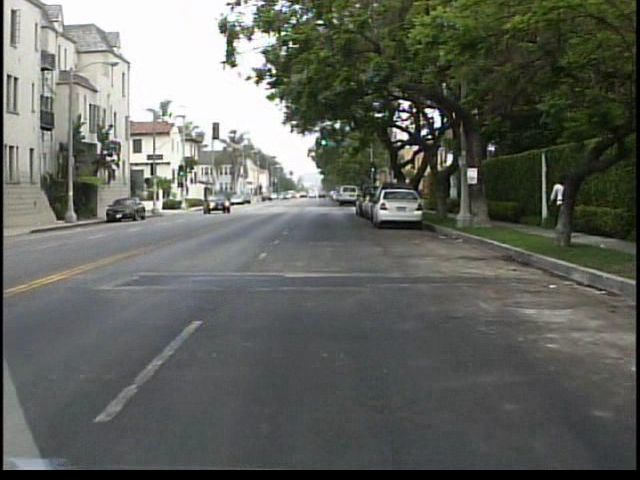person: (542, 167, 578, 249)
